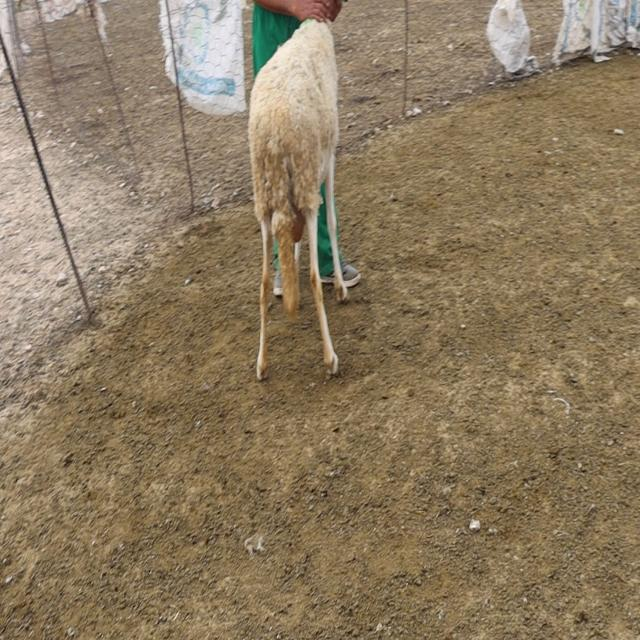Score_2: (248, 20, 348, 380)
